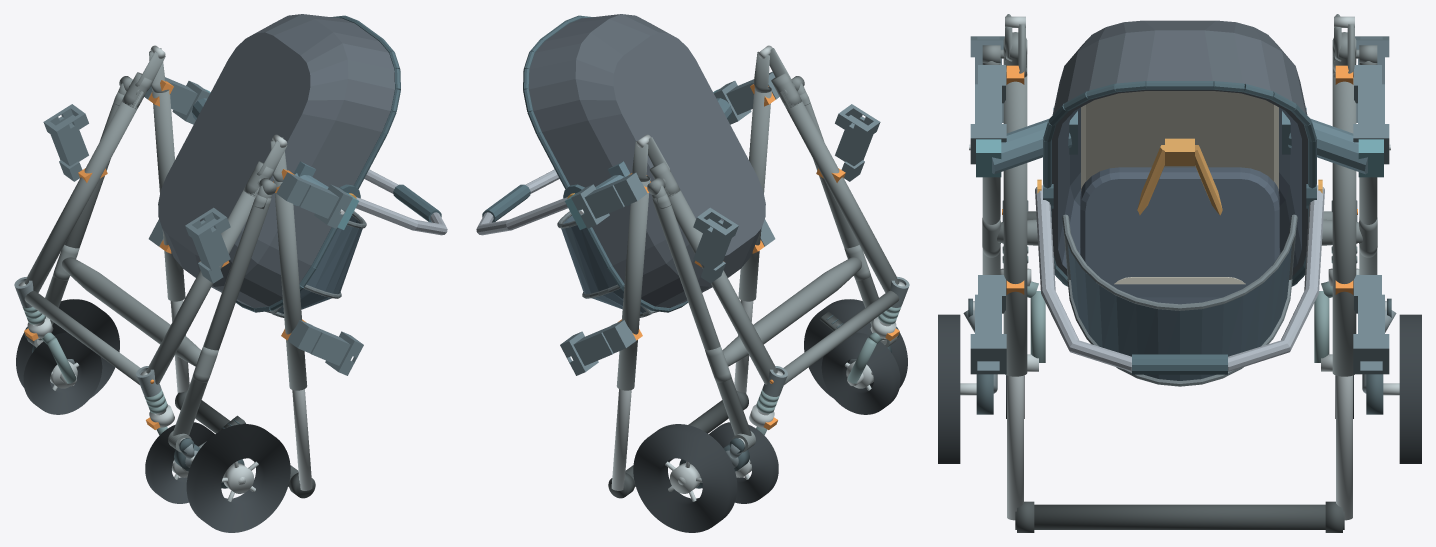
File: S07_w550_state3_wheel_S.glb
The picture shows the model from 3 angles, left to right: view 1: azimuth 30°, elevation 25°; view 2: azimuth 150°, elevation 25°; view 3: azimuth 270°, elevation 25°; orthographic projection. The views are drawn at different scales.
Visible parts, largest first — view 1: S07_Cabin, RL_tire.002, FR_tire.002, main_lower_1.003, V46_rear_leg_-1.003, main_upper_-1.003, V46_rearbar.003, main_lower_-1.003, RR_tire.002, main_upper_1.003, FL_tire.002, Universal_Cabin_Receiver_M_-1 (+14 smaller); view 2: S07_Cabin, RR_tire.002, FL_tire.002, main_lower_-1.003, V46_rear_leg_1.003, main_upper_1.003, V46_rearbar.003, main_lower_1.003, main_upper_-1.003, FR_tire.002, RL_tire.002, Universal_Cabin_Receiver_H_1 (+15 smaller); view 3: S07_Cabin, round_handle.002, main_upper_1.003, main_upper_-1.003, S07_Cabin_Mount_M, RL_tire.002, RR_tire.002, Universal_Cabin_Receiver_H_1, Universal_Cabin_Receiver_H_-1, Universal_Cabin_Receiver_M_1, Universal_Cabin_Receiver_M_-1, handle_slider_1.002 (+12 smaller).
Boxes of the visible parts, left/top/right/bottom form: S07_Cabin: left=158, top=14, right=447, bottom=317; RL_tire.002: left=186, top=424, right=290, bottom=532; FR_tire.002: left=23, top=332, right=102, bottom=414; main_lower_1.003: left=24, top=91, right=143, bottom=292; V46_rear_leg_-1.003: left=172, top=194, right=271, bottom=435; main_upper_-1.003: left=273, top=179, right=307, bottom=390; V46_rearbar.003: left=62, top=257, right=201, bottom=366; main_lower_-1.003: left=146, top=188, right=258, bottom=384; RR_tire.002: left=16, top=299, right=119, bottom=397; main_upper_1.003: left=152, top=90, right=185, bottom=301; FL_tire.002: left=145, top=422, right=214, bottom=503; Universal_Cabin_Receiver_M_-1: left=276, top=172, right=352, bottom=228; S07_Cabin: left=476, top=14, right=765, bottom=317; RR_tire.002: left=633, top=424, right=737, bottom=532; FL_tire.002: left=821, top=332, right=900, bottom=414; main_lower_-1.003: left=780, top=91, right=899, bottom=292; V46_rear_leg_1.003: left=652, top=194, right=751, bottom=435; main_upper_1.003: left=616, top=178, right=650, bottom=390; V46_rearbar.003: left=722, top=257, right=861, bottom=366; main_lower_1.003: left=665, top=188, right=777, bottom=384; main_upper_-1.003: left=738, top=88, right=771, bottom=301; FR_tire.002: left=709, top=422, right=778, bottom=503; RL_tire.002: left=804, top=299, right=907, bottom=397; Universal_Cabin_Receiver_H_1: left=560, top=320, right=636, bottom=375; S07_Cabin: left=1035, top=20, right=1324, bottom=386; round_handle.002: left=1015, top=504, right=1344, bottom=529; main_upper_1.003: left=1332, top=72, right=1356, bottom=376; main_upper_-1.003: left=1003, top=76, right=1027, bottom=376; S07_Cabin_Mount_M: left=969, top=107, right=1390, bottom=177; RL_tire.002: left=938, top=314, right=960, bottom=463; RR_tire.002: left=1399, top=314, right=1421, bottom=463; Universal_Cabin_Receiver_H_1: left=1353, top=275, right=1389, bottom=374; Universal_Cabin_Receiver_H_-1: left=970, top=275, right=1006, bottom=374; Universal_Cabin_Receiver_M_1: left=1353, top=65, right=1389, bottom=164; Universal_Cabin_Receiver_M_-1: left=970, top=65, right=1006, bottom=164; handle_slider_1.002: left=1336, top=375, right=1352, bottom=520.
Bounding box in the file's own units: 0.7254 × 0.8162 × 0.6471.
